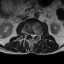CCS_normal: (32, 33, 34, 41)
LFS_severe_stenosis: (36, 33, 38, 37)
LLS_normal: (34, 32, 36, 38)
RFS_severe_stenosis: (28, 32, 30, 36)
RLS_stenosis: (30, 32, 32, 38)
